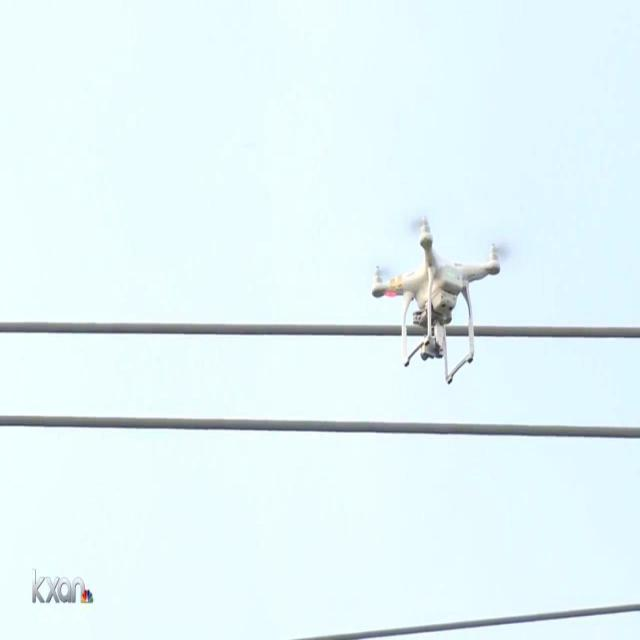UAV: (371, 214, 511, 383)
